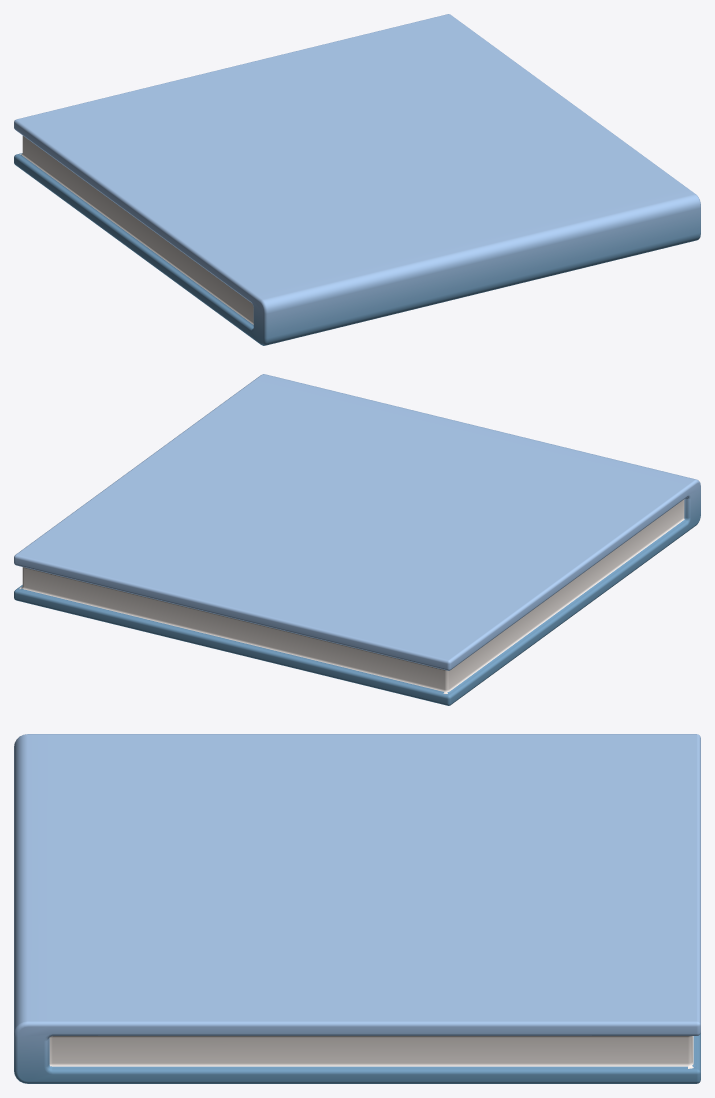
The model's file is HH_RecipeBook.fbx.
The picture shows the model from 3 angles, top to bottom: view 1: azimuth 30°, elevation 25°; view 2: azimuth 150°, elevation 25°; view 3: azimuth 270°, elevation 25°; orthographic projection. The views are drawn at different scales.
Parts seen in each view (by area): view 1: Book; view 2: Book; view 3: Book.
Part boxes in pixels (x1,y1,x2,y2): Book: (14, 14, 700, 345); Book: (14, 374, 700, 705); Book: (14, 734, 700, 1083).
Bounding box in the file's own units: 40 × 4 × 40.
1 material, 1 textured.
